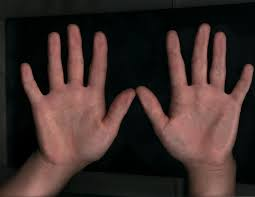palm: (176, 87, 231, 165), (46, 87, 104, 160)
